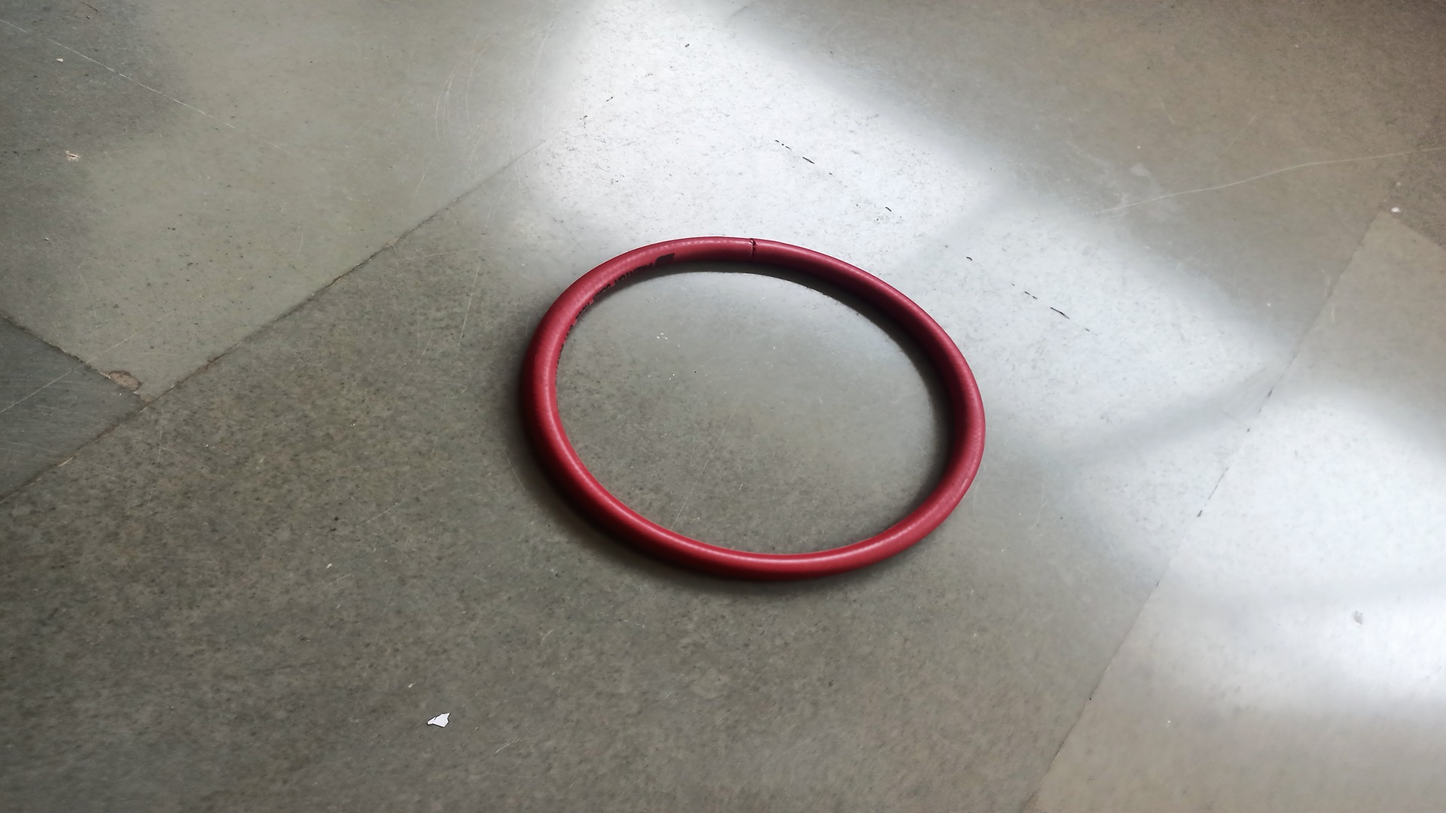Red ring: (523, 236, 985, 573)
